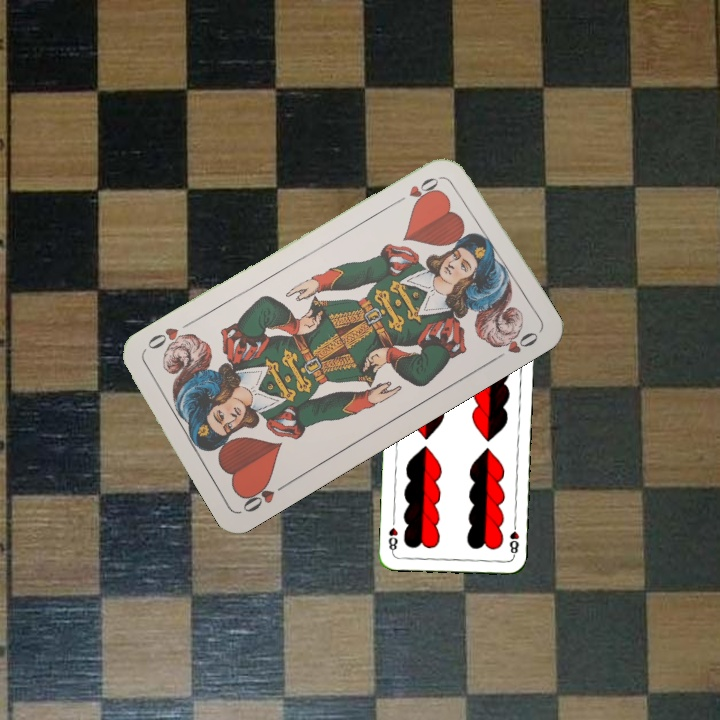H8: (506, 518, 521, 559)
HO: (238, 477, 292, 515), (391, 171, 446, 206)
